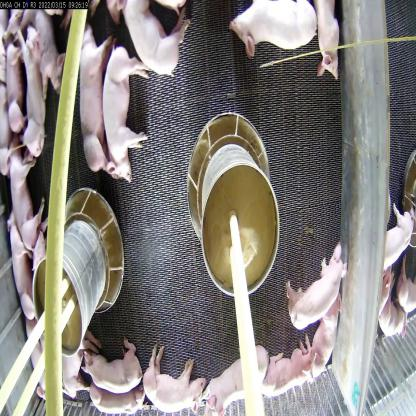Pig: (224, 0, 332, 70), (282, 232, 350, 342), (6, 24, 58, 148), (104, 50, 149, 192), (201, 336, 269, 416), (118, 0, 186, 79), (262, 338, 334, 408), (8, 140, 49, 261), (75, 19, 109, 164), (140, 348, 211, 415), (0, 222, 41, 333), (82, 334, 144, 398), (312, 286, 350, 378), (311, 0, 341, 90), (85, 369, 143, 415)
